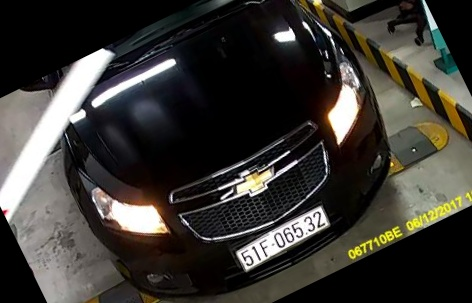plate: (224, 202, 334, 268)
